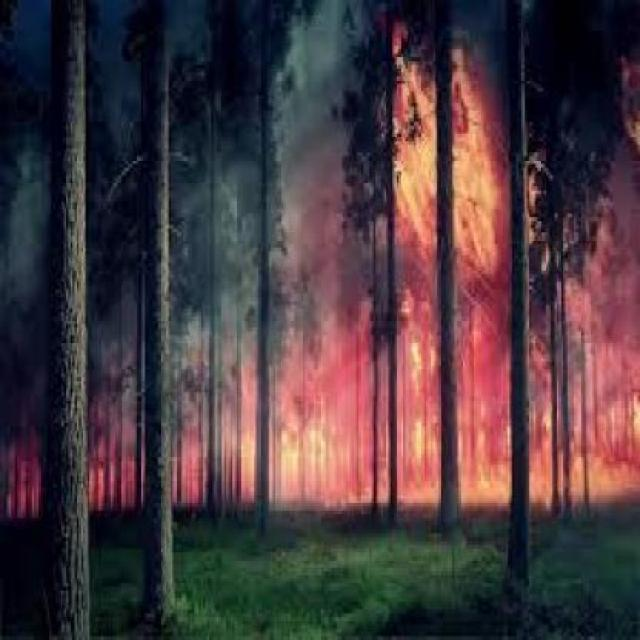Fire: (334, 13, 496, 380), (348, 411, 640, 526)
